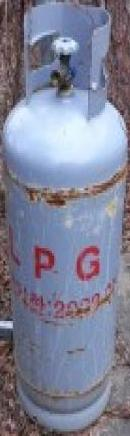cylinder: (1, 1, 130, 436)
